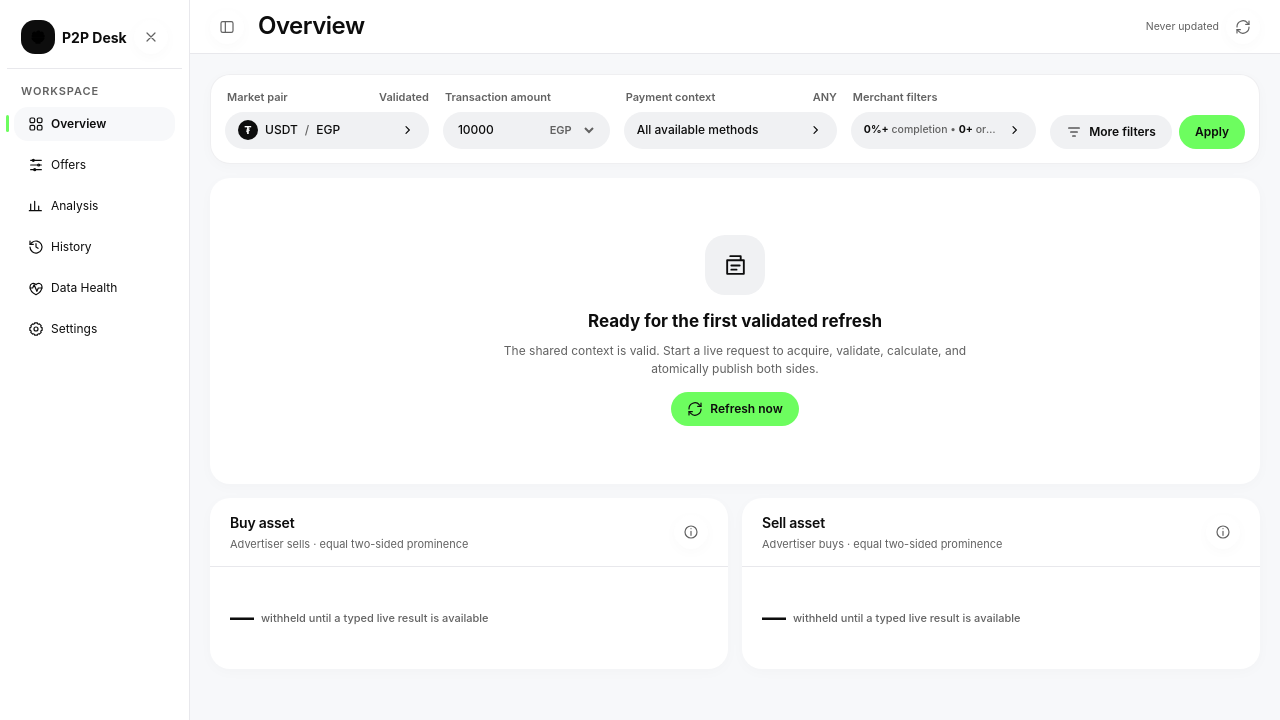
Test: approved application shell › opens keyboard-accessible advanced context controls
expect the heading "Ready for the first validated refresh" is shown: met, box [588,311,882,331]
Click the button "More filters". click: (1111, 132)
box: [1050,114,1172,148]
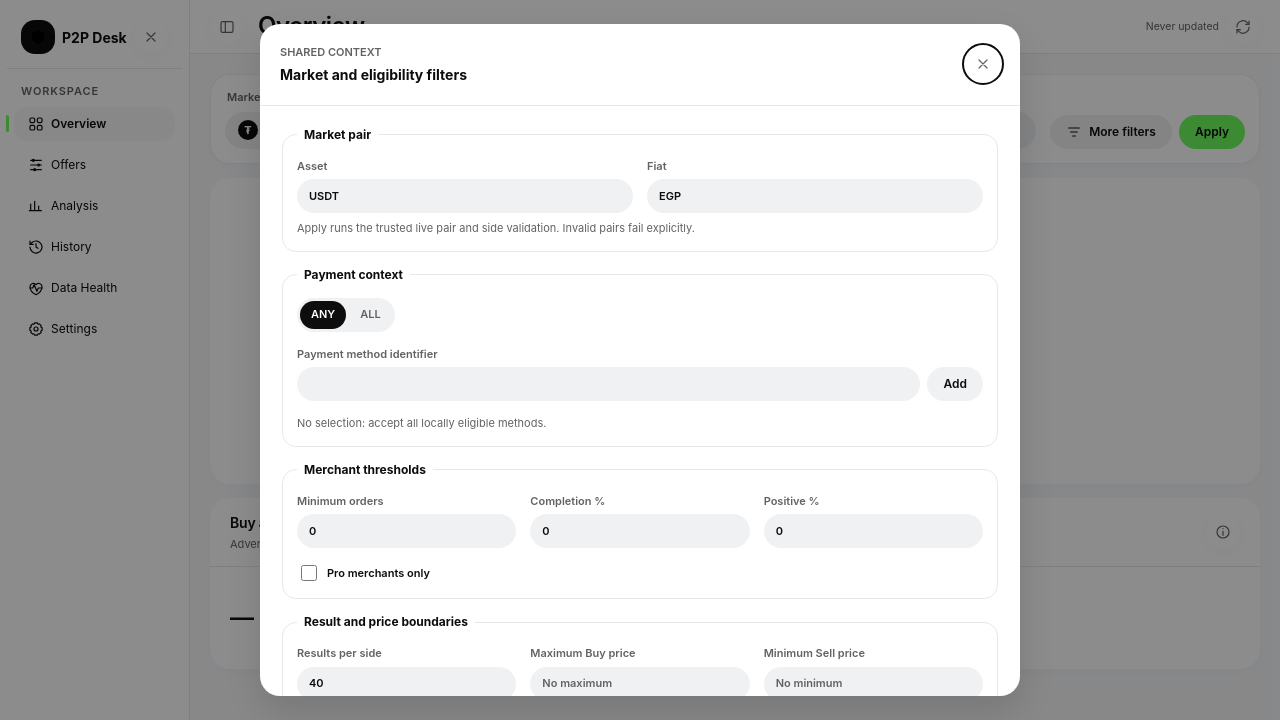
Click the button "ALL". click: (370, 314)
box: [349,300,392,328]
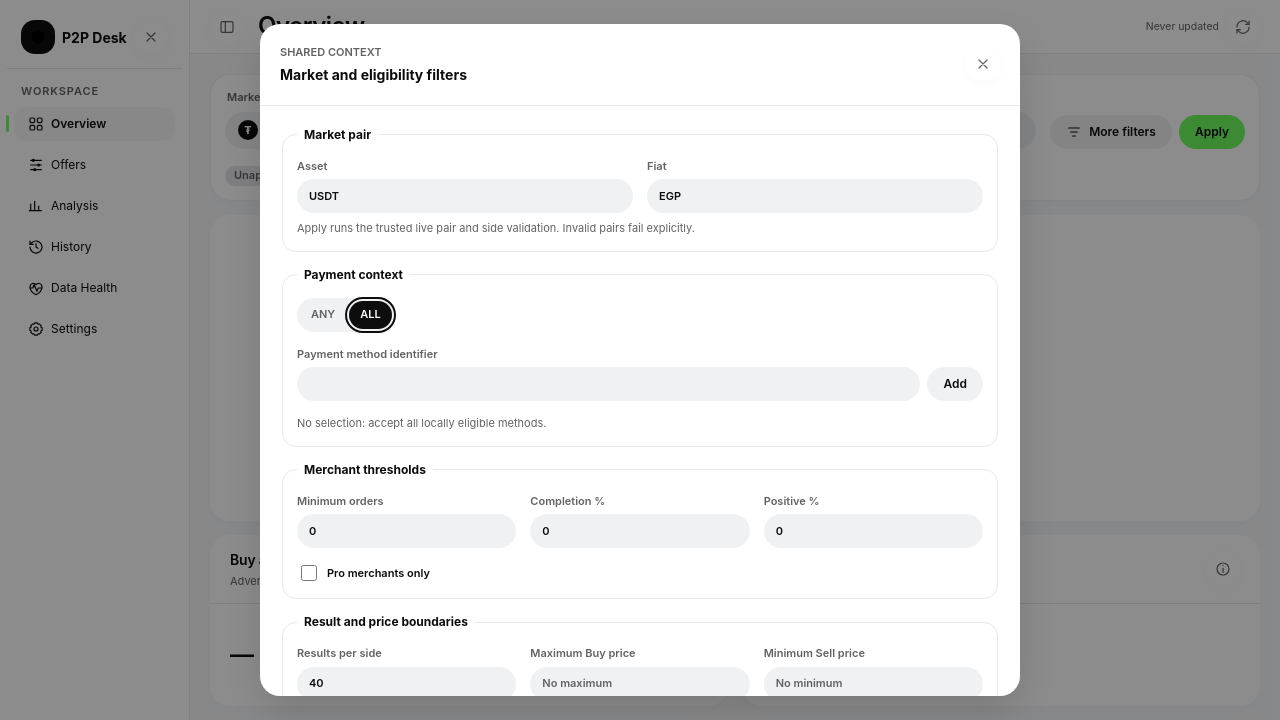
expect the number field labelled "Results per side" holds "40": met, box [297,666,516,696]
Click the button named "Close filters". click: (983, 64)
box: [966,47,1000,81]
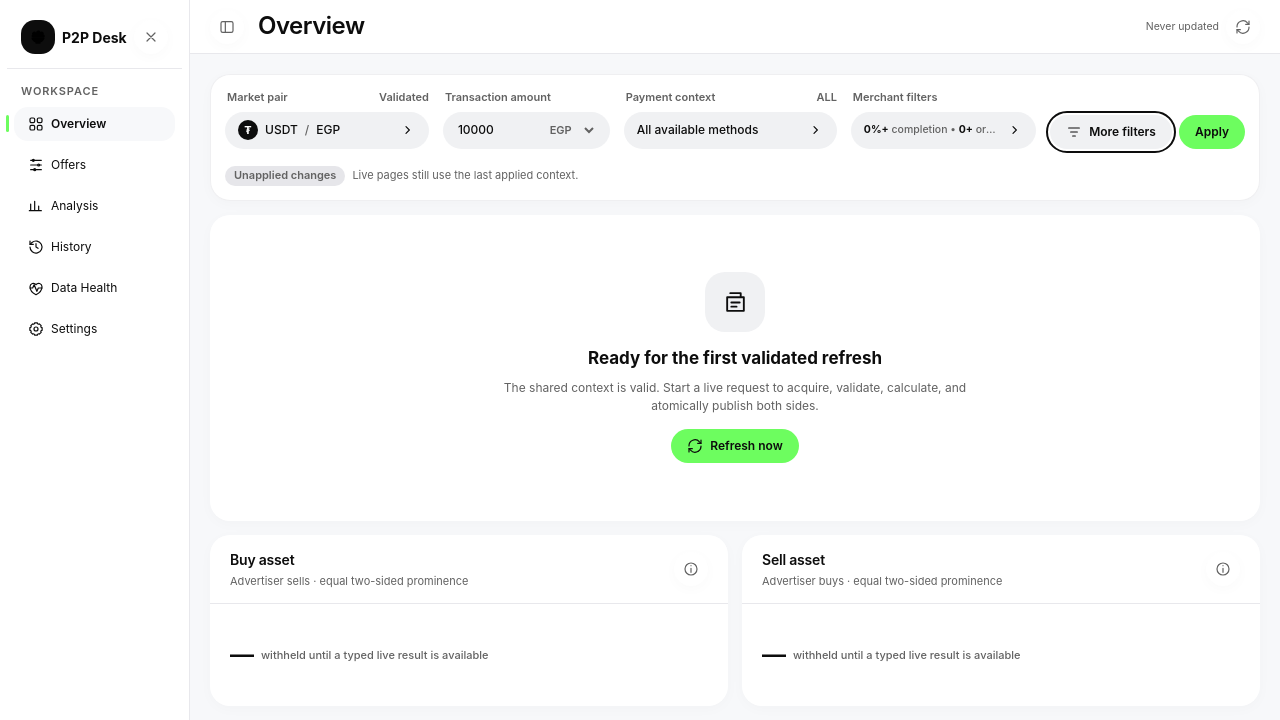
expect the heading "Market and eligibility filters" is gone: met
